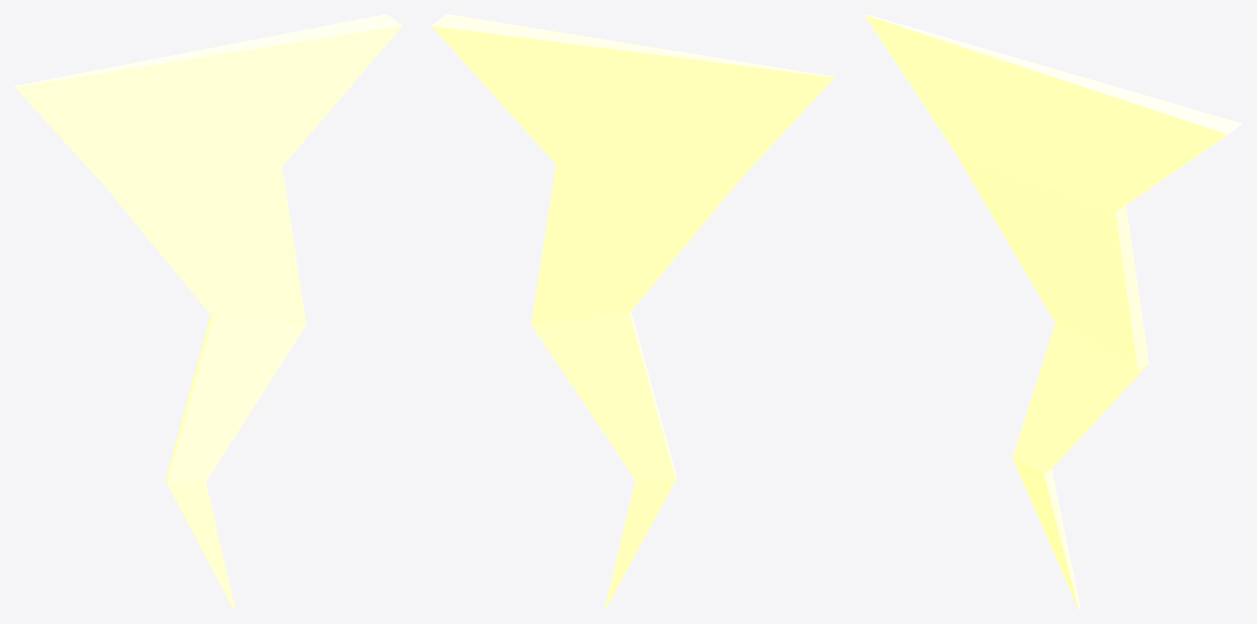
The model's file is lightening.glb.
3 renders of one model, left to right at view 1: azimuth 30°, elevation 25°; view 2: azimuth 150°, elevation 25°; view 3: azimuth 330°, elevation 25°, orthographic. The views are drawn at different scales.
Visible parts, largest first — view 1: lightening; view 2: lightening; view 3: lightening.
Boxes of the visible parts, <box> form: lightening: <box>14,14,402,609</box>; lightening: <box>431,14,834,609</box>; lightening: <box>864,14,1242,609</box>.
Bounding box in the file's own units: 1.26 × 1.8 × 0.09.
